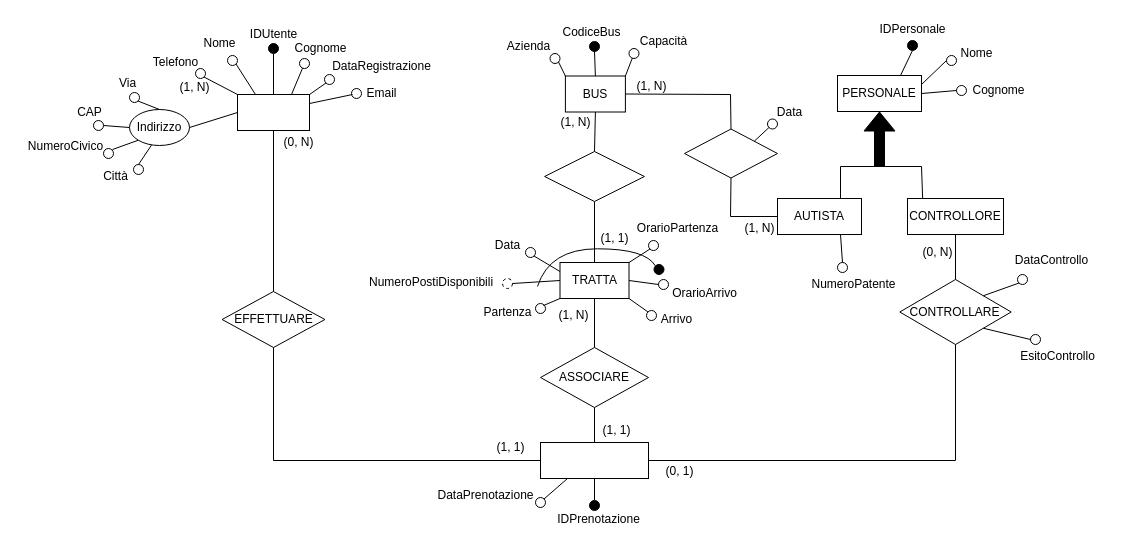
This 1122x548 diagram has some shape labels left out. Here are the shapes that lost their labels. From the top down, the box of each, then its label:
(236, 94, 310, 130): UTENTE
(684, 128, 778, 178): GUIDARE
(544, 150, 644, 202): VIAGGIARE
(540, 442, 648, 478): PRENOTAZIONE
